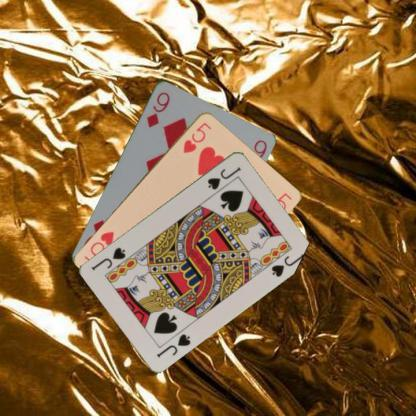5h: (180, 120, 213, 154)
9d: (143, 89, 171, 128)
Js: (154, 330, 192, 359), (204, 164, 242, 191)
